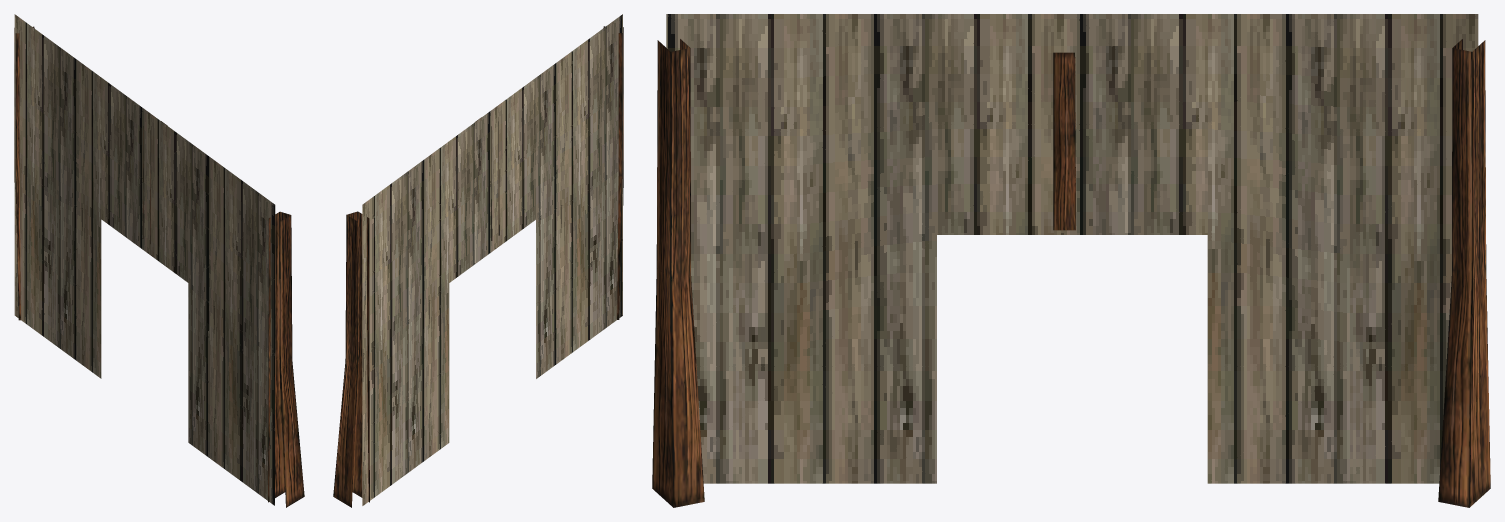
File: LAKETOWN_WAREHOUSE2_PS_WH2_FRONTWALL47474__GX.fbx
3 renders of one model, left to right at view 1: azimuth 30°, elevation 25°; view 2: azimuth 150°, elevation 25°; view 3: azimuth 270°, elevation 25°, orthographic. The views are drawn at different scales.
Parts seen in each view (by area): view 1: LAKETOWN_WAREHOUSE2_PS_WH2_FRONTWALL47474__GX; view 2: LAKETOWN_WAREHOUSE2_PS_WH2_FRONTWALL47474__GX; view 3: LAKETOWN_WAREHOUSE2_PS_WH2_FRONTWALL47474__GX.
Boxes of the visible parts, x1=… form: LAKETOWN_WAREHOUSE2_PS_WH2_FRONTWALL47474__GX: x1=14, y1=14, x2=304, y2=507; LAKETOWN_WAREHOUSE2_PS_WH2_FRONTWALL47474__GX: x1=333, y1=14, x2=623, y2=507; LAKETOWN_WAREHOUSE2_PS_WH2_FRONTWALL47474__GX: x1=652, y1=14, x2=1490, y2=507.
Bounding box in the file's own units: 6330 × 52184 × 84419.
2 materials, 2 textured.
